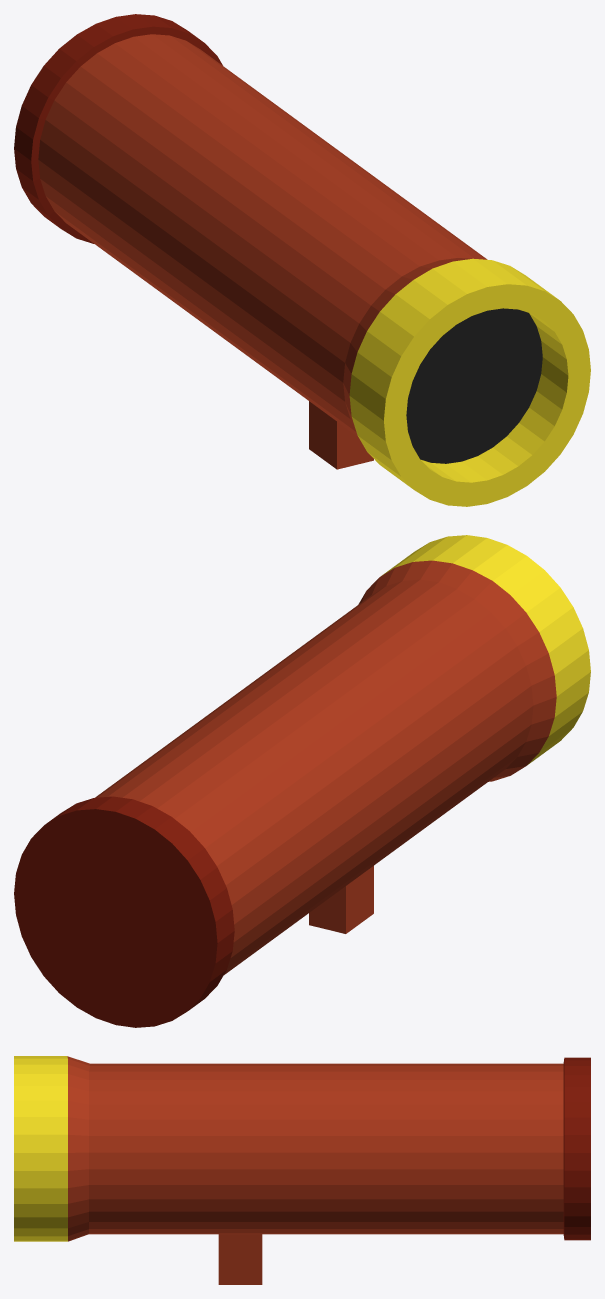
Rendered from bazooka.glb.
3 views of the same model, one above another, from view 1: azimuth 30°, elevation 25°; view 2: azimuth 150°, elevation 25°; view 3: azimuth 270°, elevation 25° (orthographic). The views are drawn at different scales.
Visible parts, largest first — view 1: mesh; view 2: mesh; view 3: mesh.
Boxes of the visible parts, <box> form: mesh: <box>14,14,590,506</box>; mesh: <box>14,535,590,1027</box>; mesh: <box>14,1056,590,1284</box>.
Bounding box in the file's own units: 0.3189 × 0.4039 × 0.9909.
Materials: 1 (1 with a texture image).
